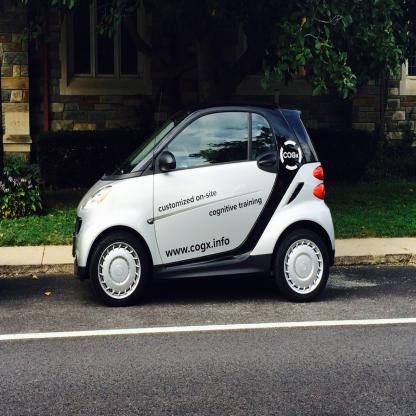Car: (72, 92, 335, 307)
